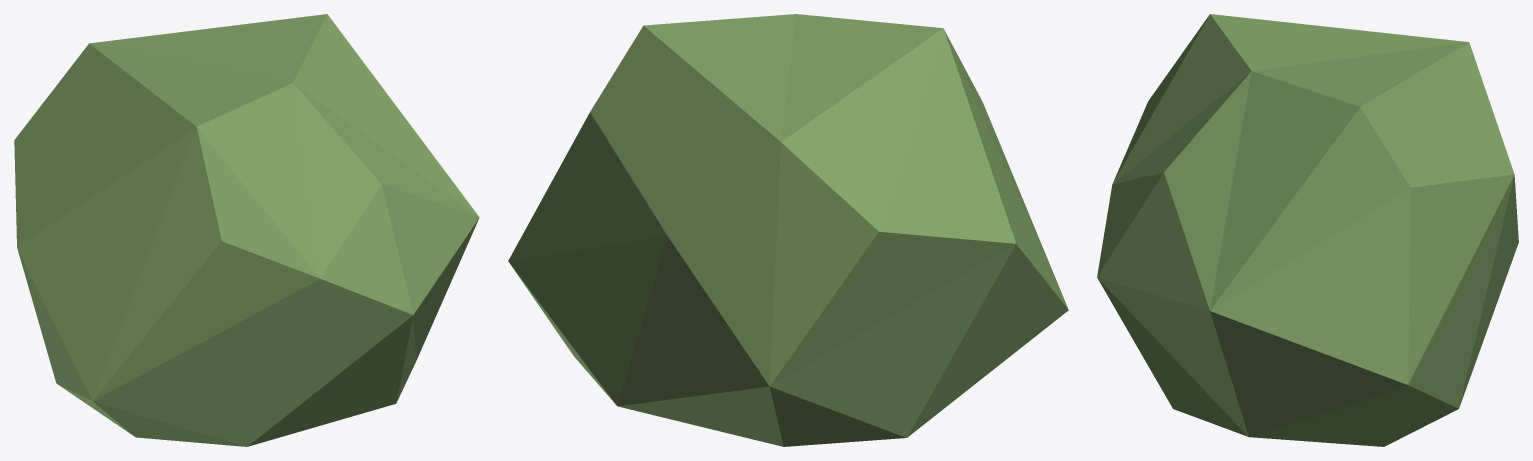
File: Bush_01.fbx
3 renders of one model, left to right at view 1: azimuth 30°, elevation 25°; view 2: azimuth 150°, elevation 25°; view 3: azimuth 270°, elevation 25°, orthographic. The views are drawn at different scales.
Visible parts, largest first — view 1: Bush_01; view 2: Bush_01; view 3: Bush_01.
Part boxes in pixels (x1,y1,x2,y2): Bush_01: (14, 14, 479, 446); Bush_01: (508, 14, 1068, 446); Bush_01: (1097, 14, 1518, 446).
Bounding box in the file's own units: 130 × 90.34 × 110.
